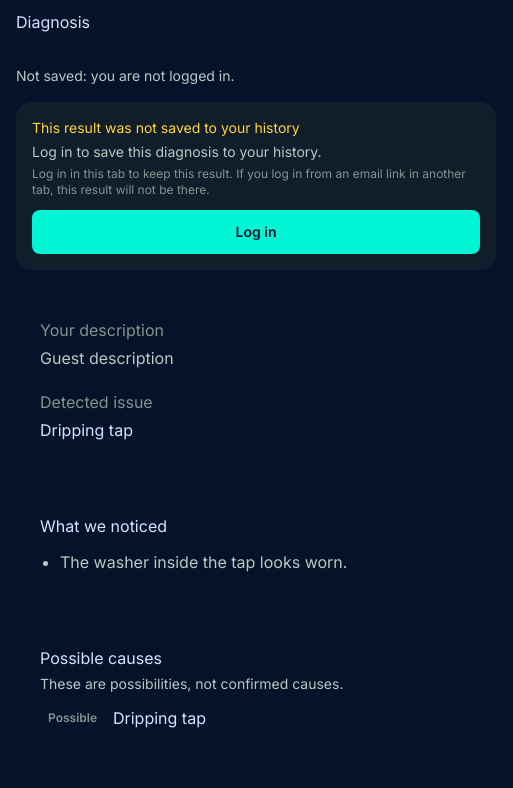
Test case: a result made as a guest, after logging in › the guest "Log in" link returns to the result after logging in
Click the link "Log in" at (256, 232), box left=32, top=210, right=480, bottom=254
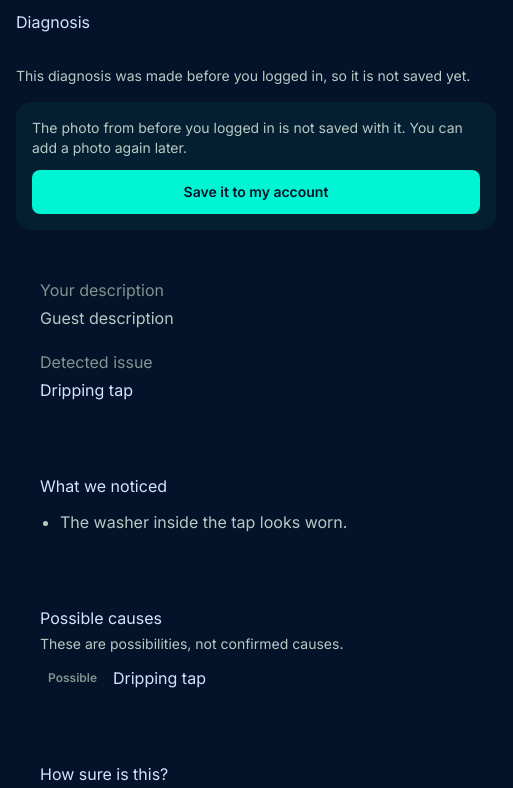
Expected: the button "Save it to my account" is shown, left=32, top=170, right=480, bottom=214
